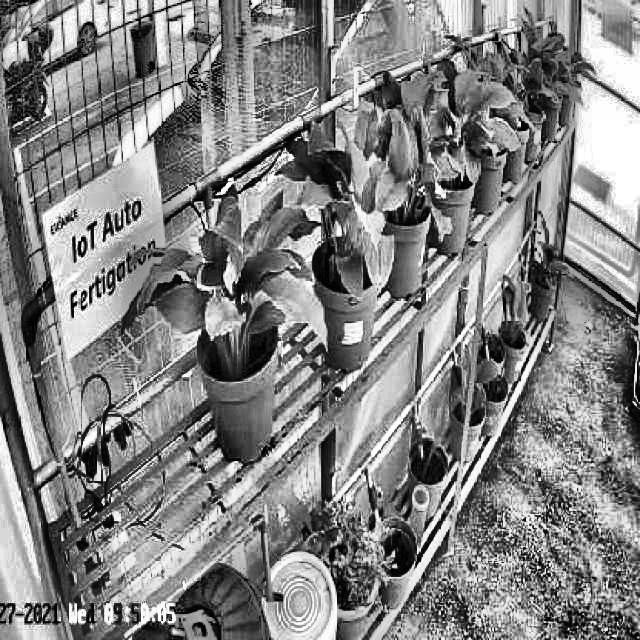plants: (121, 181, 326, 354), (290, 128, 396, 302), (408, 62, 524, 184), (364, 90, 453, 248)
